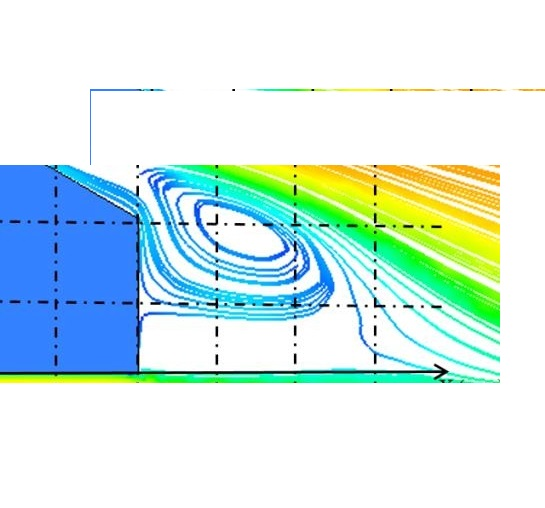vortox: (148, 174, 333, 309)
